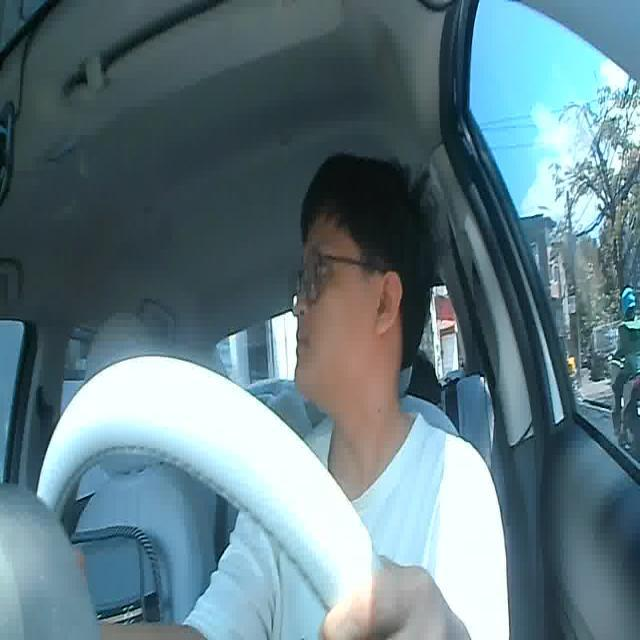Eye-Open: (302, 261, 330, 281)
Inattentive: (293, 155, 435, 406)
Normal: (296, 332, 310, 357)
